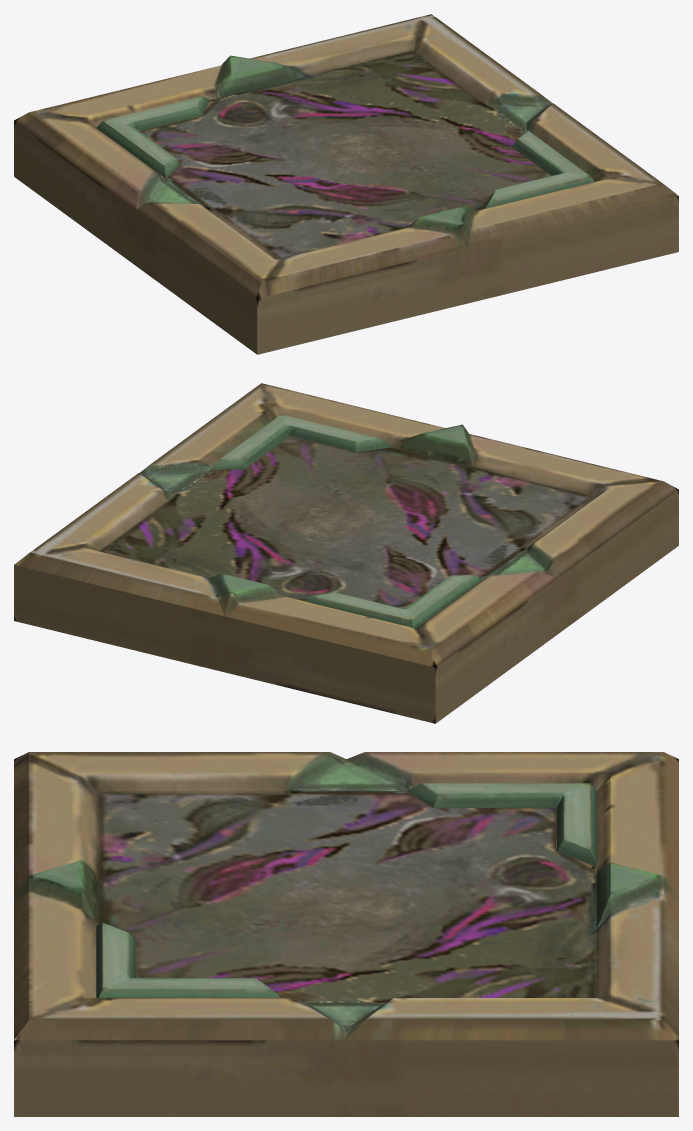
File: trap_448_xbmire.fbx
3 views of the same model, one above another, from view 1: azimuth 30°, elevation 25°; view 2: azimuth 150°, elevation 25°; view 3: azimuth 270°, elevation 25° (orthographic). The views are drawn at different scales.
Parts seen in each view (by area): view 1: trap_448_xbmire; view 2: trap_448_xbmire; view 3: trap_448_xbmire.
Part boxes in pixels (x1=…): trap_448_xbmire: x1=14, y1=14, x2=678, y2=354; trap_448_xbmire: x1=14, y1=383, x2=678, y2=723; trap_448_xbmire: x1=14, y1=752, x2=678, y2=1116.
Bounding box in the file's own units: 1 × 0.1672 × 1.
Materials: 1 (1 with a texture image).
